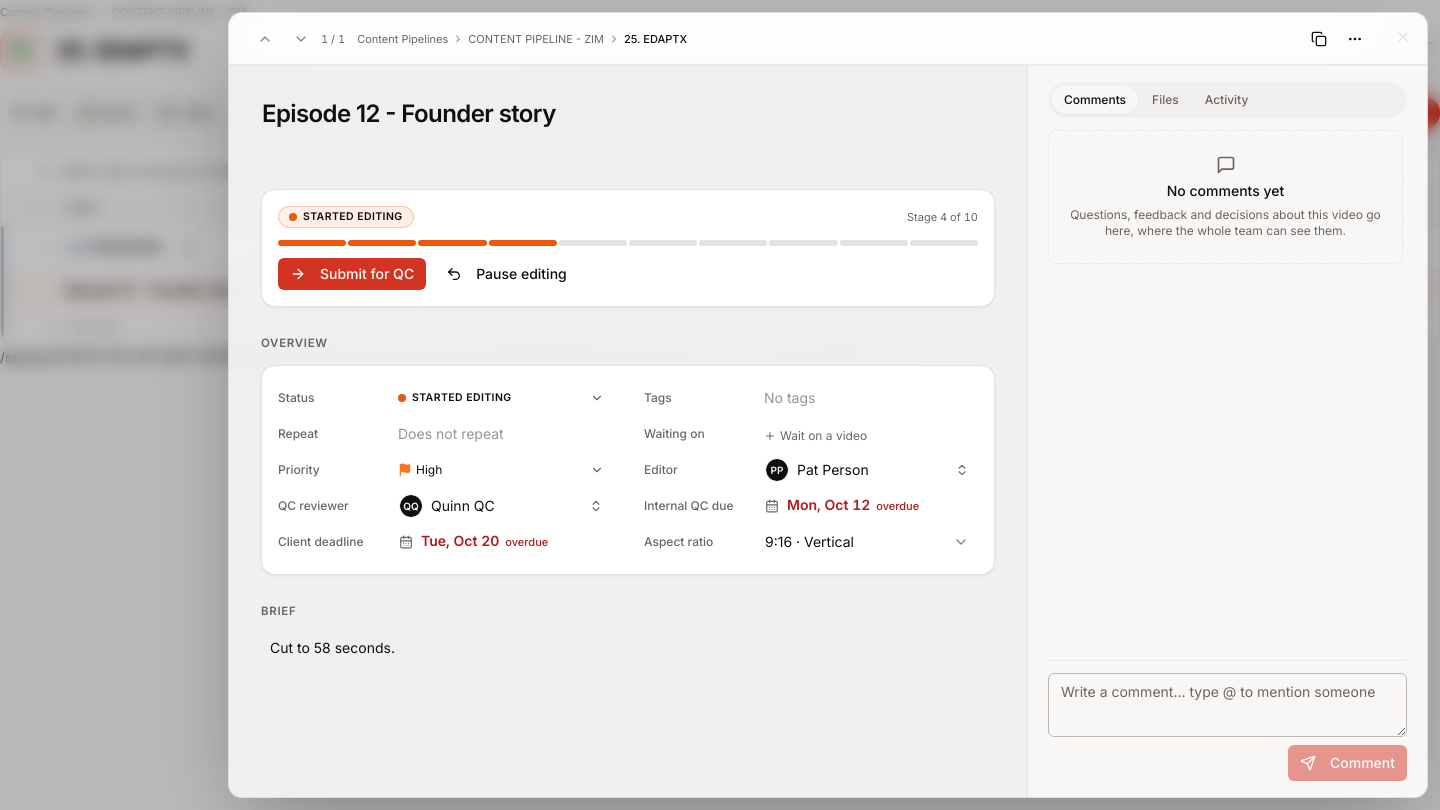
task detail sheet: editing as a manager › Enter saves, Escape reverts without saving, and an unchanged value sends nothing
Type "!" into the text box named "Task title" at (628, 113), box [253,94,1003,132]
Then press Enter
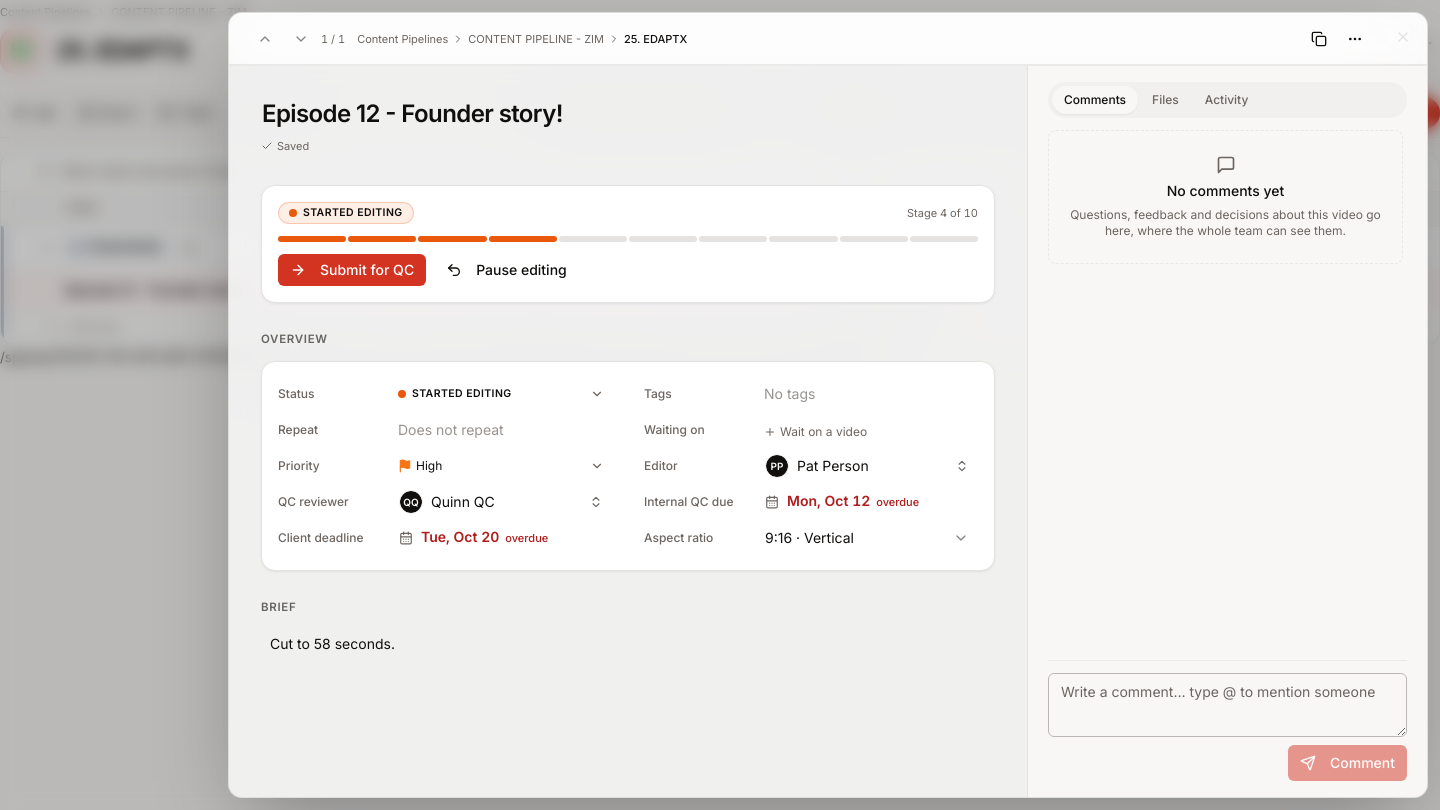
Type "xyz" into the text box named "Task title" at (628, 113), box [253,94,1003,132]
Then press Escape
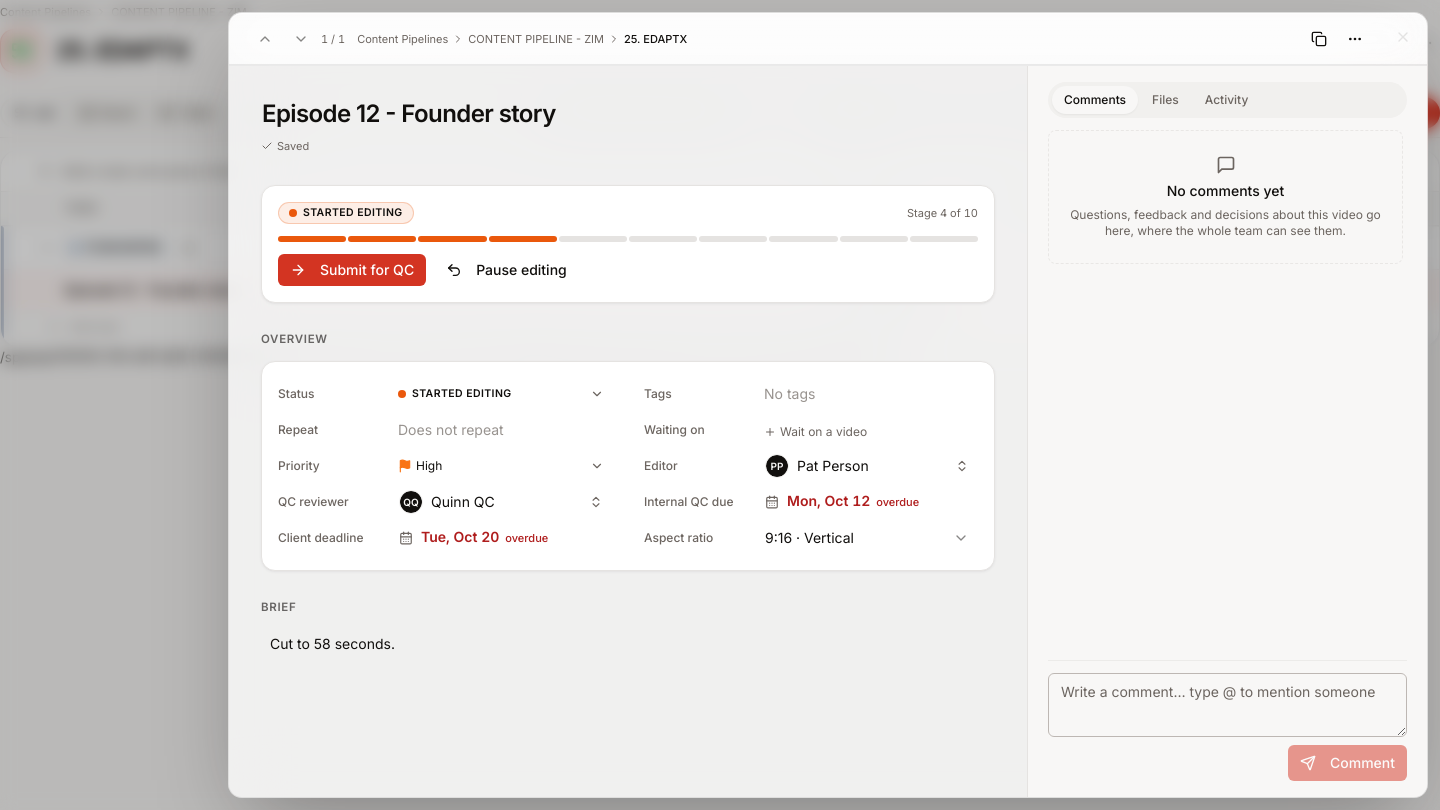
Now the text box named "Task title" holds "Episode 12 - Founder story", box [253,94,1003,132]
Press Escape
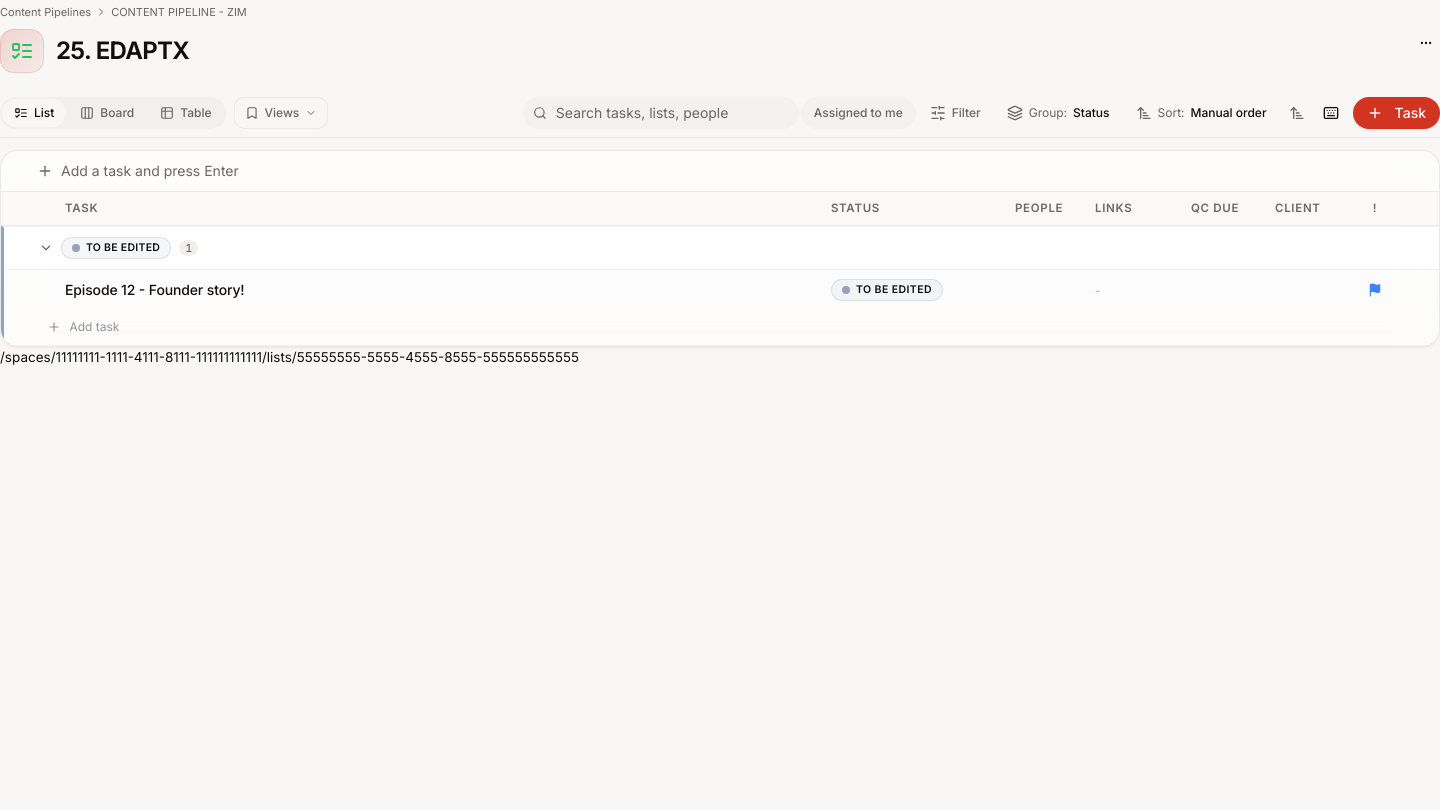
Now the dialog is gone
